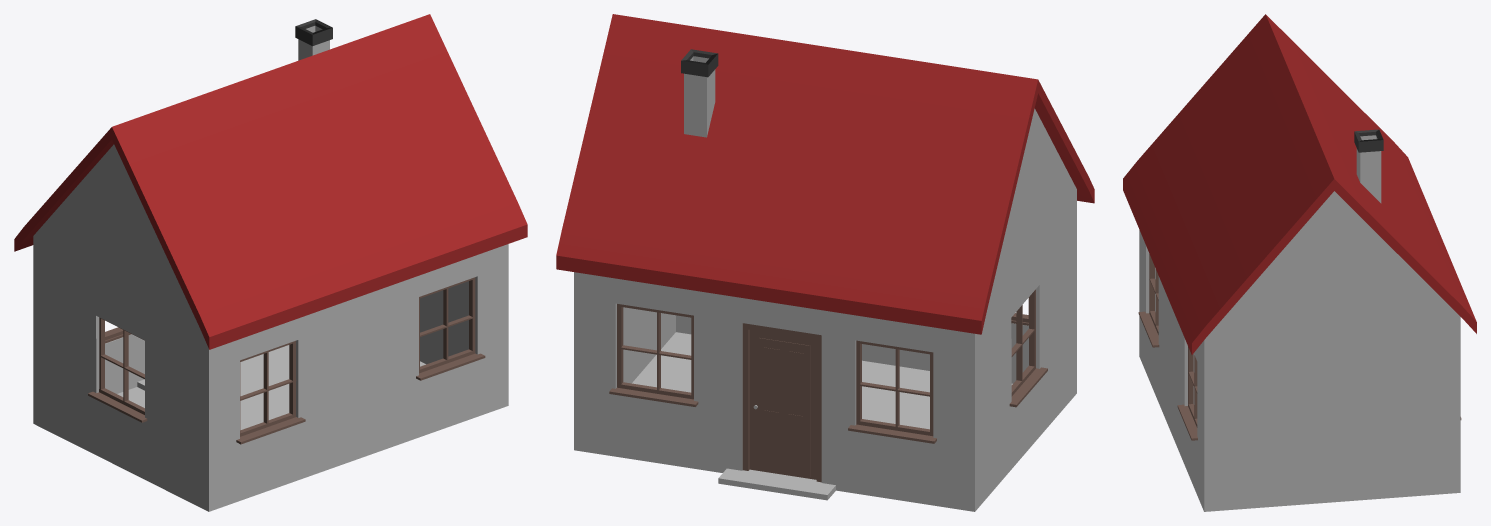
The model's file is House.gltf.
3 views of the same model, side by side, from view 1: azimuth 30°, elevation 25°; view 2: azimuth 150°, elevation 25°; view 3: azimuth 270°, elevation 25° (orthographic). The views are drawn at different scales.
Parts seen in each view (by area): view 1: node-0; view 2: node-0; view 3: node-0.
Boxes of the visible parts, x1=… form: node-0: x1=14, y1=14, x2=527, y2=511; node-0: x1=556, y1=14, x2=1094, y2=511; node-0: x1=1123, y1=14, x2=1476, y2=511.
Size of the model in its own units: 117 by 97.47 by 94.02.
